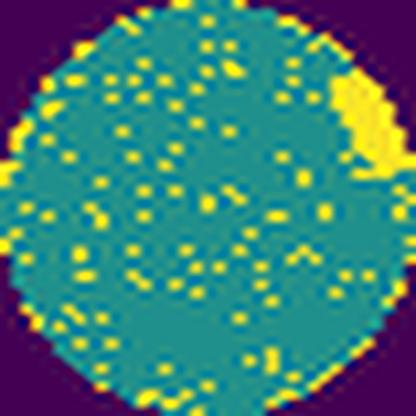Edge-Loc: (324, 69, 416, 186)
